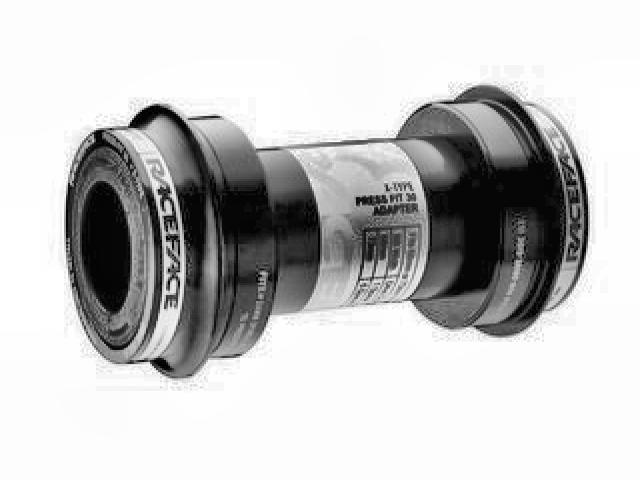bottom_bracket: (62, 79, 594, 382)
